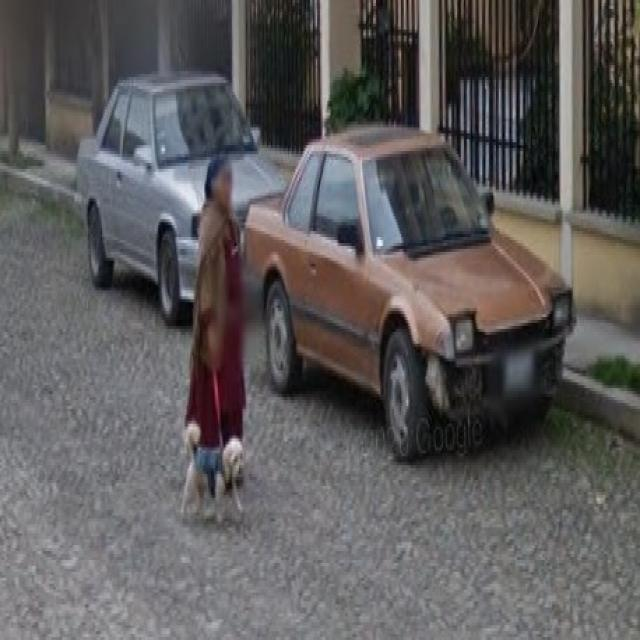cars: (272, 73, 578, 446), (79, 45, 248, 300)
